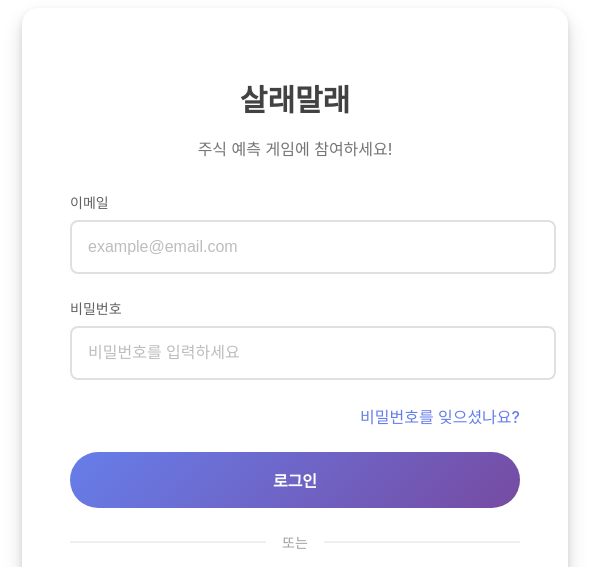
Validation Message Display › LoginForm › 잘못된 이메일 형식일 때 에러 메시지를 표시해야 함
In the field labelled "이메일": (313, 247) [70,220,556,274], type "invalid-email"
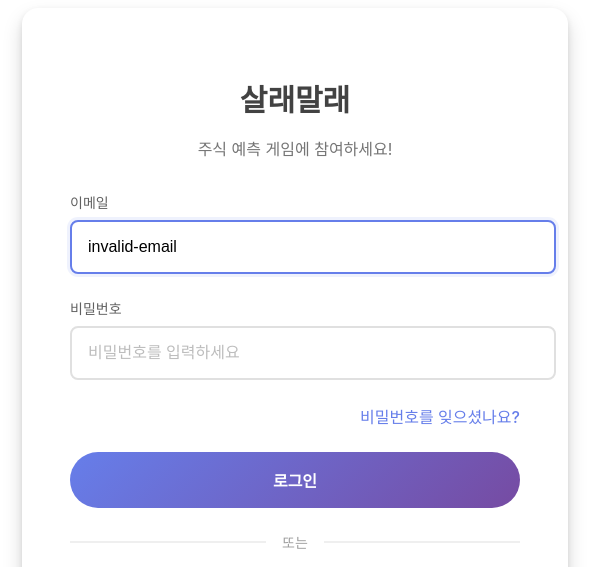
Leave the field labelled "이메일", box [70,220,556,274]
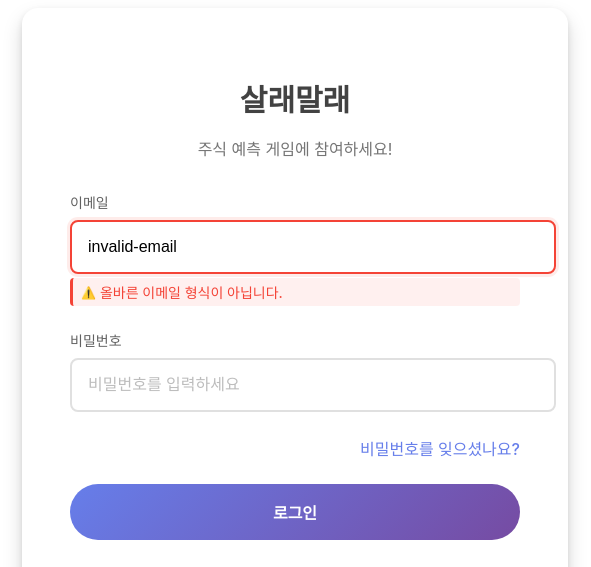
expect the message reads "올바른 이메일 형식이 아닙니다.": met, box [100,284,283,301]
